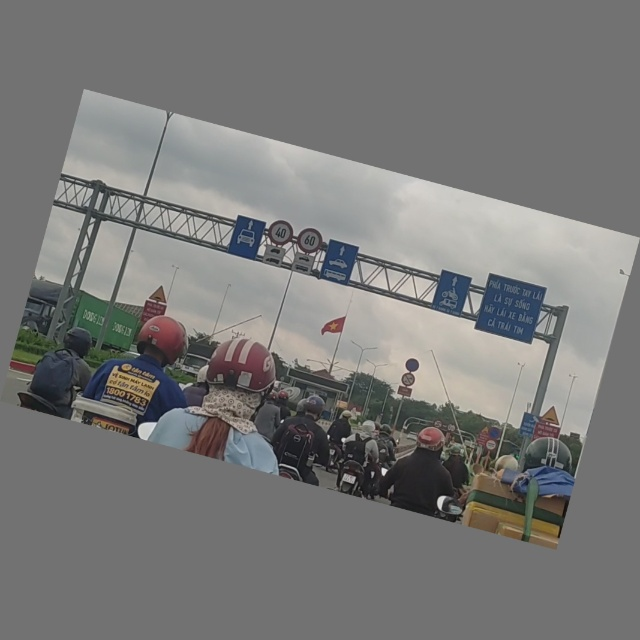Camera: (518, 412, 540, 439)
P.107: (445, 423, 457, 435), (433, 420, 444, 430)
P.111: (400, 373, 416, 389)
P.127*40: (265, 217, 297, 248)
P.127*60: (295, 226, 325, 257)
P.129: (484, 439, 499, 454)
P.130: (404, 358, 420, 374)
P.131a: (488, 428, 502, 441)
W.221b: (541, 405, 564, 427), (149, 283, 171, 305), (480, 425, 491, 436)
